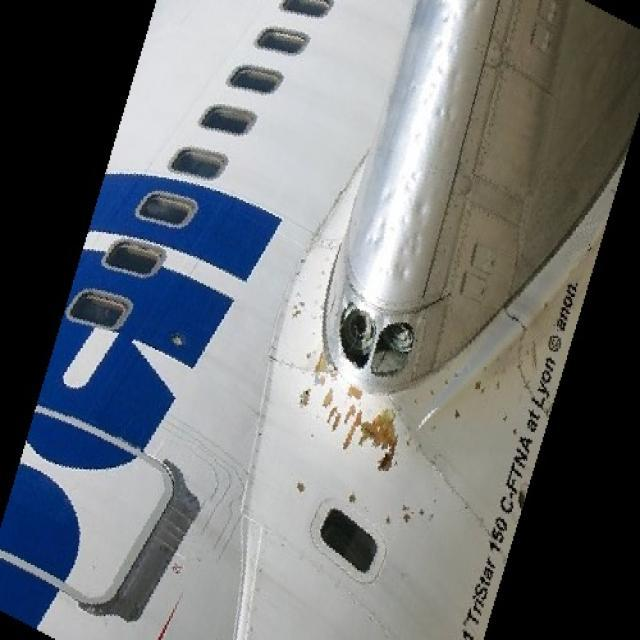dent: (364, 3, 488, 290)
